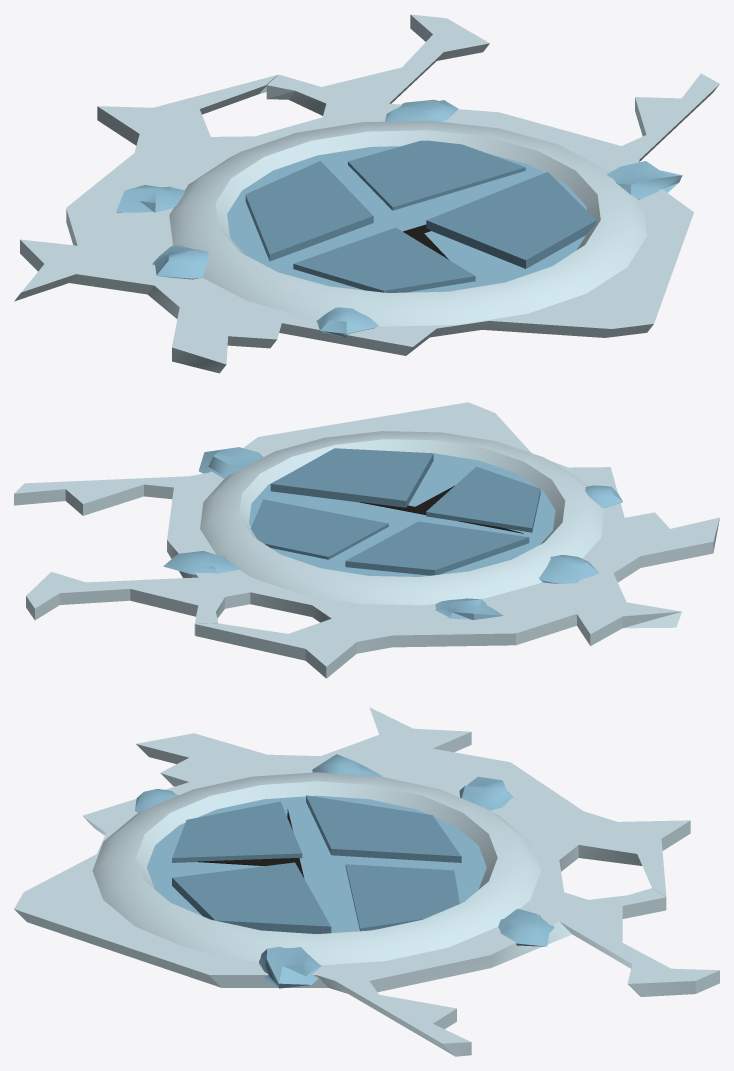
Rendered from fluorine-vent.glb.
3 renders of one model, top to bottom at view 1: azimuth 30°, elevation 25°; view 2: azimuth 150°, elevation 25°; view 3: azimuth 270°, elevation 25°, orthographic. The views are drawn at different scales.
Parts seen in each view (by area): view 1: body; view 2: body; view 3: body.
Boxes of the visible parts, x1,y1,x2,y2 form: body: [14, 14, 719, 373]; body: [14, 402, 719, 678]; body: [14, 707, 719, 1056].
Bounding box in the file's own units: 2.2 × 0.0804 × 1.95.
